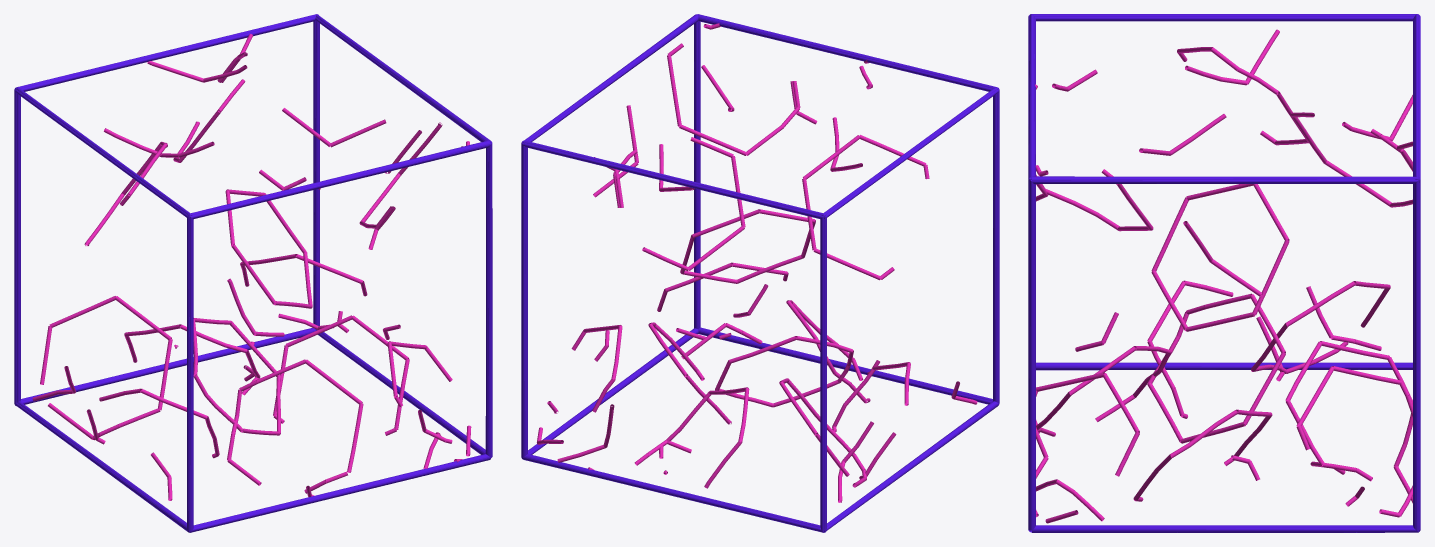
File: dislocation100.glb
3 renders of one model, left to right at view 1: azimuth 30°, elevation 25°; view 2: azimuth 150°, elevation 25°; view 3: azimuth 270°, elevation 25°, orthographic. The views are drawn at different scales.
Visible parts, largest first — view 1: Shape_IndexedLineSet, Shape_IndexedLineSet.001; view 2: Shape_IndexedLineSet, Shape_IndexedLineSet.001; view 3: Shape_IndexedLineSet.001, Shape_IndexedLineSet.
Part boxes in pixels (bbox=[...]): Shape_IndexedLineSet: bbox=[14, 14, 492, 532]; Shape_IndexedLineSet.001: bbox=[32, 34, 471, 500]; Shape_IndexedLineSet: bbox=[521, 14, 999, 532]; Shape_IndexedLineSet.001: bbox=[536, 23, 977, 502]; Shape_IndexedLineSet.001: bbox=[1035, 29, 1413, 523]; Shape_IndexedLineSet: bbox=[1028, 14, 1420, 532].
Bounding box in the file's own units: 1.02 × 1.02 × 1.02.
